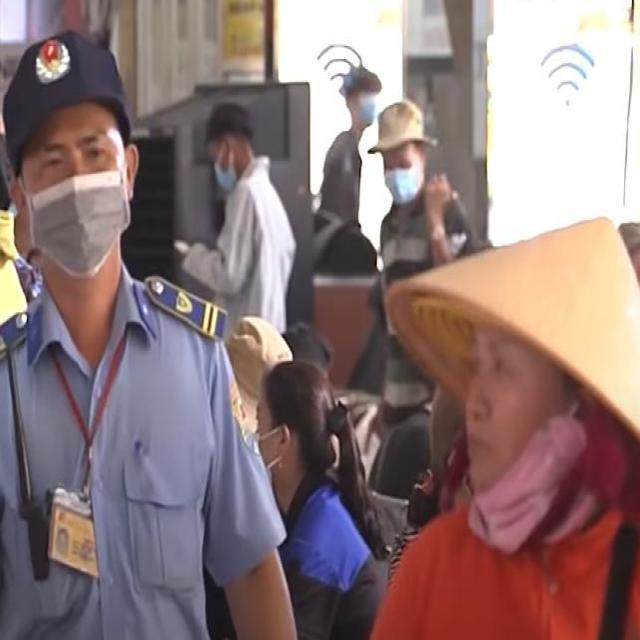hairnet: (464, 342, 574, 545)
